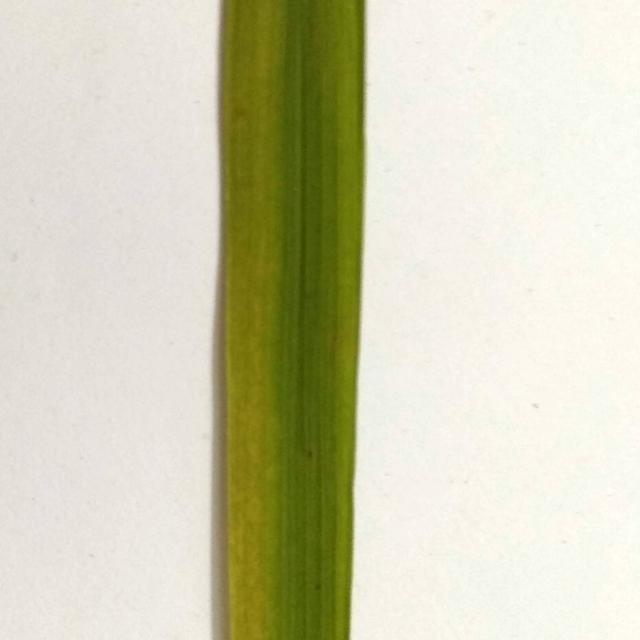Rice_Healthy: (220, 0, 364, 640)
